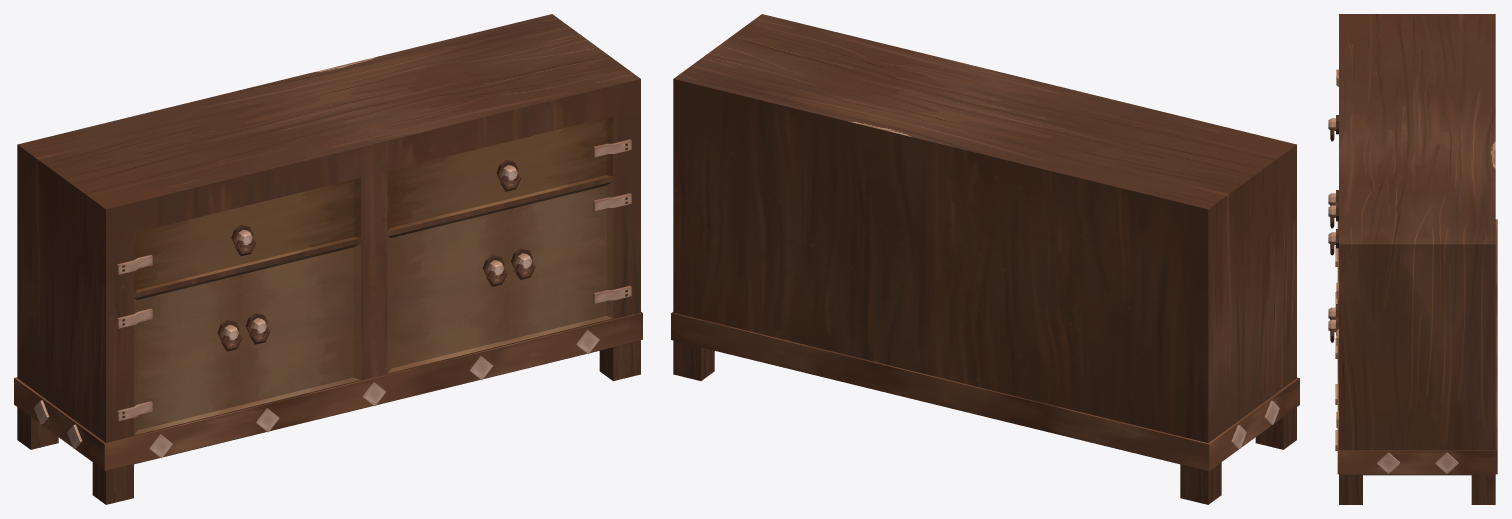
The model's file is T_Tutorial_Dresser.fbx.
The picture shows the model from 3 angles, left to right: view 1: azimuth 30°, elevation 25°; view 2: azimuth 150°, elevation 25°; view 3: azimuth 270°, elevation 25°; orthographic projection. The views are drawn at different scales.
Visible parts, largest first — view 1: pasted__polySurface21; view 2: pasted__polySurface21; view 3: pasted__polySurface21.
Boxes of the visible parts, x1,y1,x2,y2 form: pasted__polySurface21: (14, 14, 642, 504); pasted__polySurface21: (671, 14, 1299, 504); pasted__polySurface21: (1328, 14, 1497, 504).
Size of the model in its own units: 10.17 by 5.29 by 3.11.
Materials: 1 (1 with a texture image).
